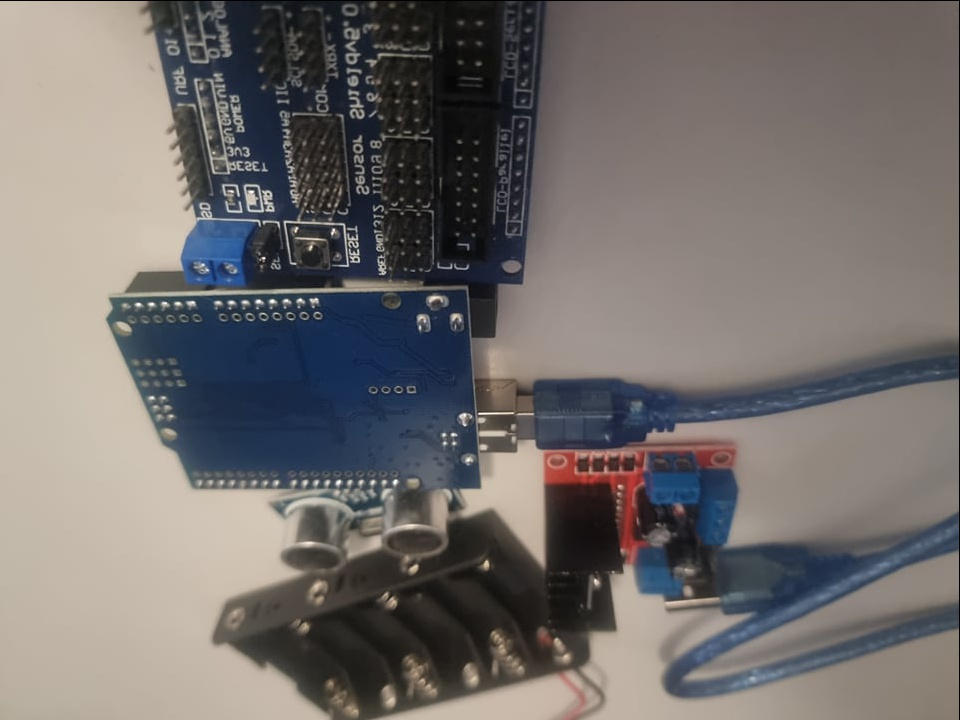5V EXPANSION: (148, 4, 547, 281)
BATTERY BOX: (213, 505, 588, 717)
MOTOR: (541, 441, 737, 635)
SENSOR: (270, 487, 466, 572)
UNO R3: (104, 282, 520, 498)
